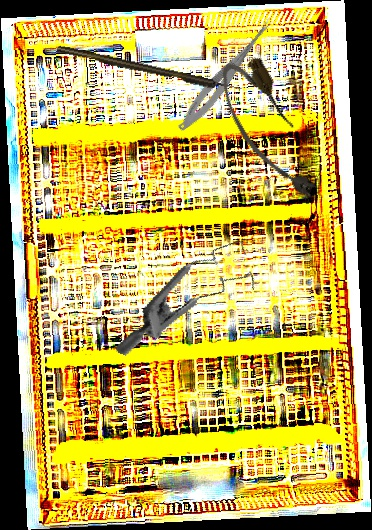Cannula: (209, 49, 329, 215)
Hook Surgical: (56, 43, 243, 96)
Micro Scissor: (173, 11, 279, 137)
Speculum: (114, 213, 269, 391)
